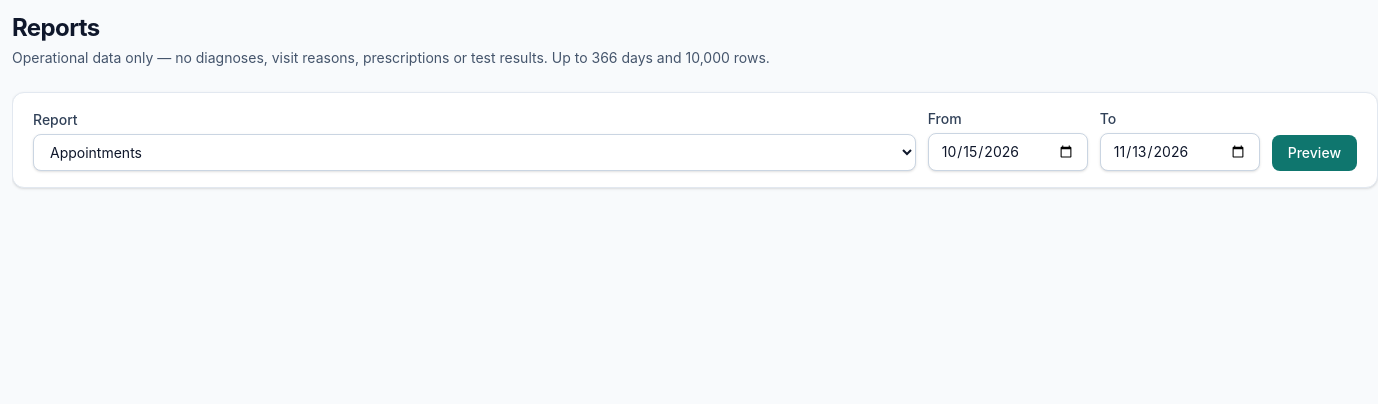
Test: ReportsPage › previews a report and offers CSV and PDF downloads for the same range
The width and height of the screenshot is (1378, 404).
Select "Payments and refunds" in the dropdown labelled "Report" at [474, 152], box [33, 134, 916, 171]
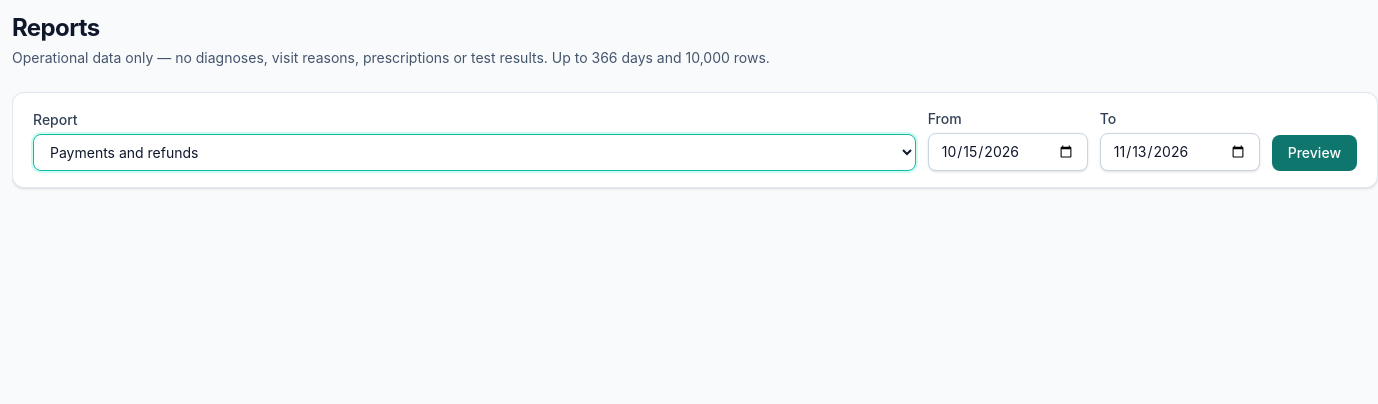
Click the button "Preview".
click(1314, 153)  # box [1272, 135, 1357, 171]
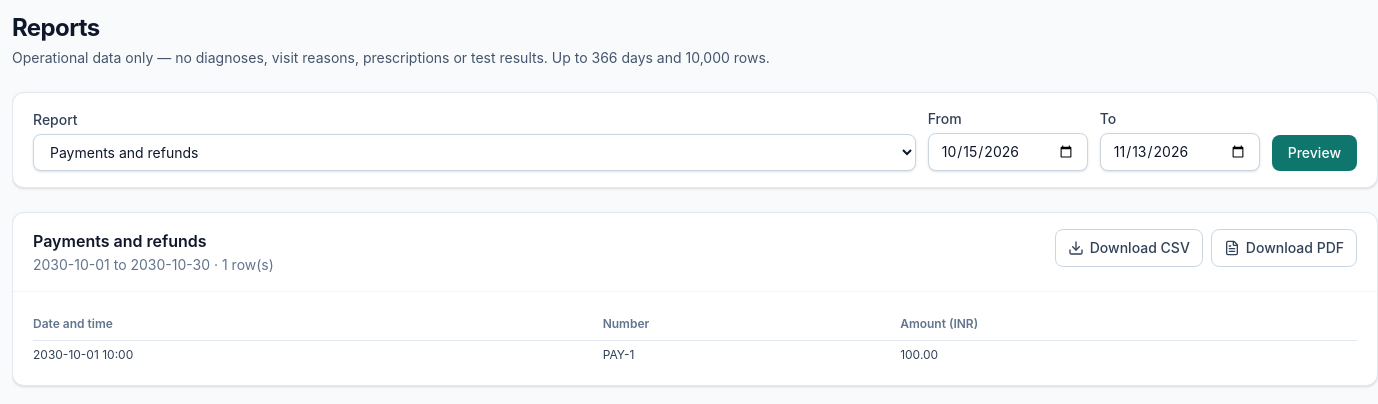
Expected: the cell "PAY-1" is shown, [603, 340, 900, 369]
